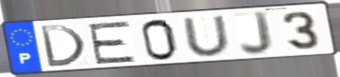0: (139, 17, 180, 61)
3: (281, 10, 322, 50)
D: (37, 24, 88, 69)
E: (85, 19, 138, 66)
J: (238, 10, 275, 57)
U: (180, 14, 234, 58)
